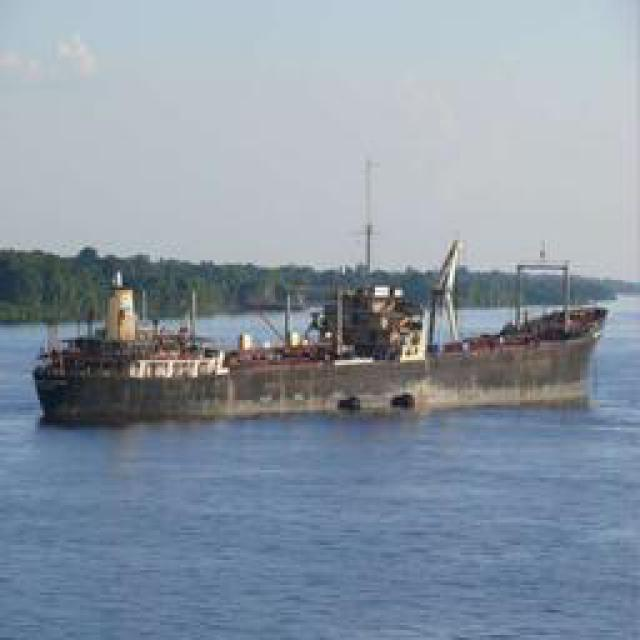Ship: (21, 277, 624, 427)
